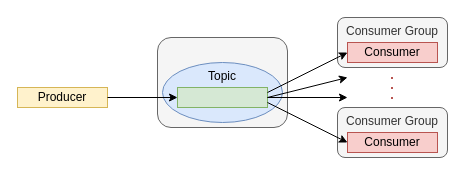
The diagram is 465 pixels wide and 175 high, and some of its shapes have lost their labels. Each missing label, with the box of its shape:
Kafka: (156, 36, 288, 128)
Partition: (176, 86, 268, 108)
